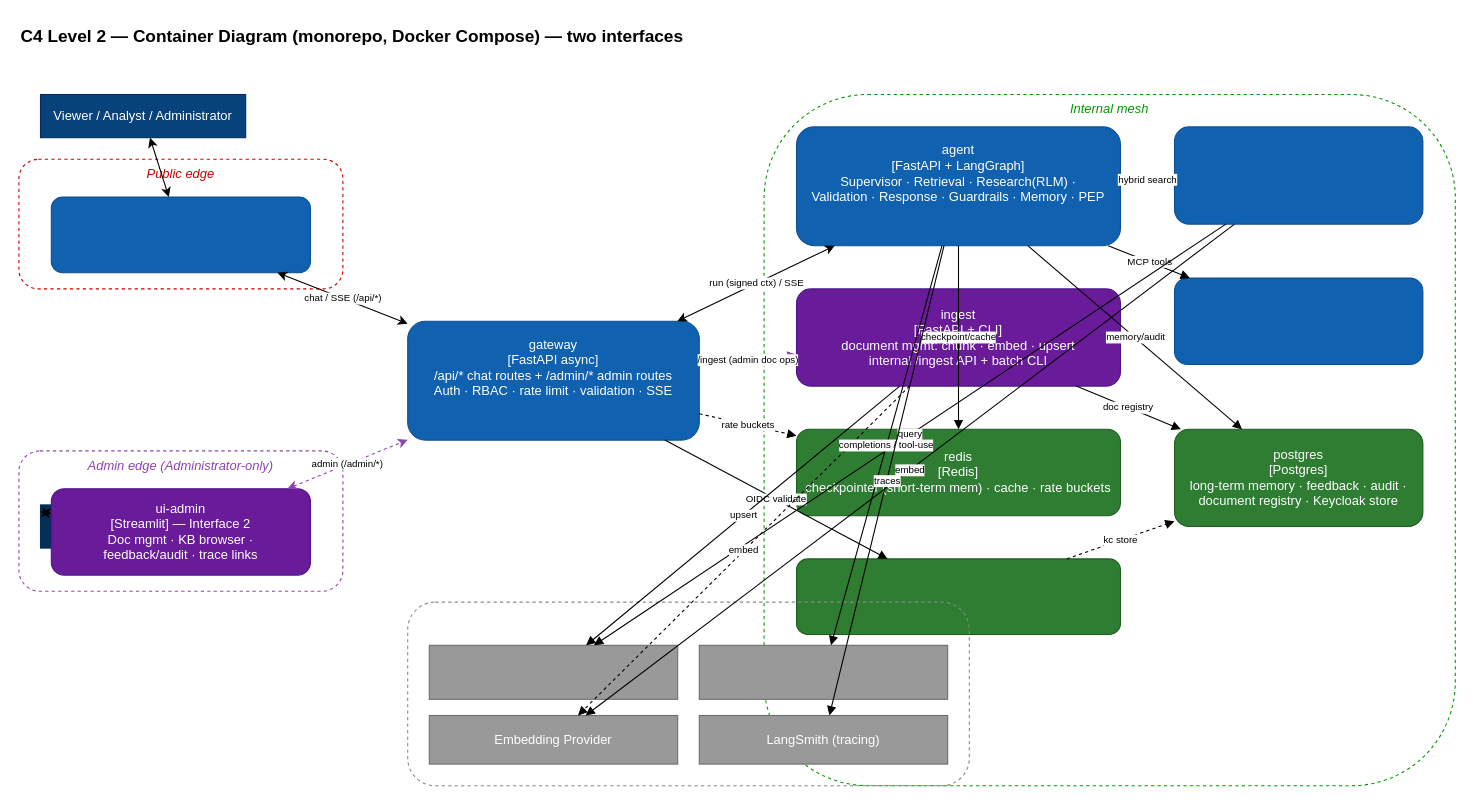
The diagram is 1474 pixels wide and 805 high, and some of its shapes have lost their labels. The box of each missing label's shape, as (x1, y1, x2, y2) in pixels:
keycloak [Keycloak] OIDC IdP · realm + 3 roles: (795, 558, 1120, 634)
LLM Provider Claude / OpenAI: (698, 644, 948, 699)
Managed cloud: (407, 601, 969, 786)
mcp [MCP SDK] dummy enterprise data: (1173, 277, 1423, 364)
Pinecone vector DB (dense+sparse): (428, 644, 678, 699)
retrieval [FastAPI async] Hybrid search · RRF · rerank · attribution: (1173, 126, 1423, 224)
ui-public [Streamlit] — Interface 1 Chat + Agent Activity Panel: (50, 196, 310, 273)
